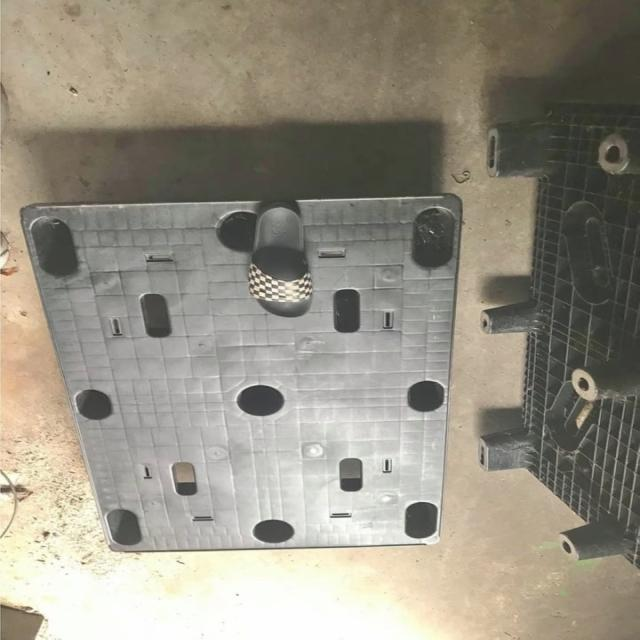non-igps: (15, 189, 472, 556), (469, 89, 640, 578)
